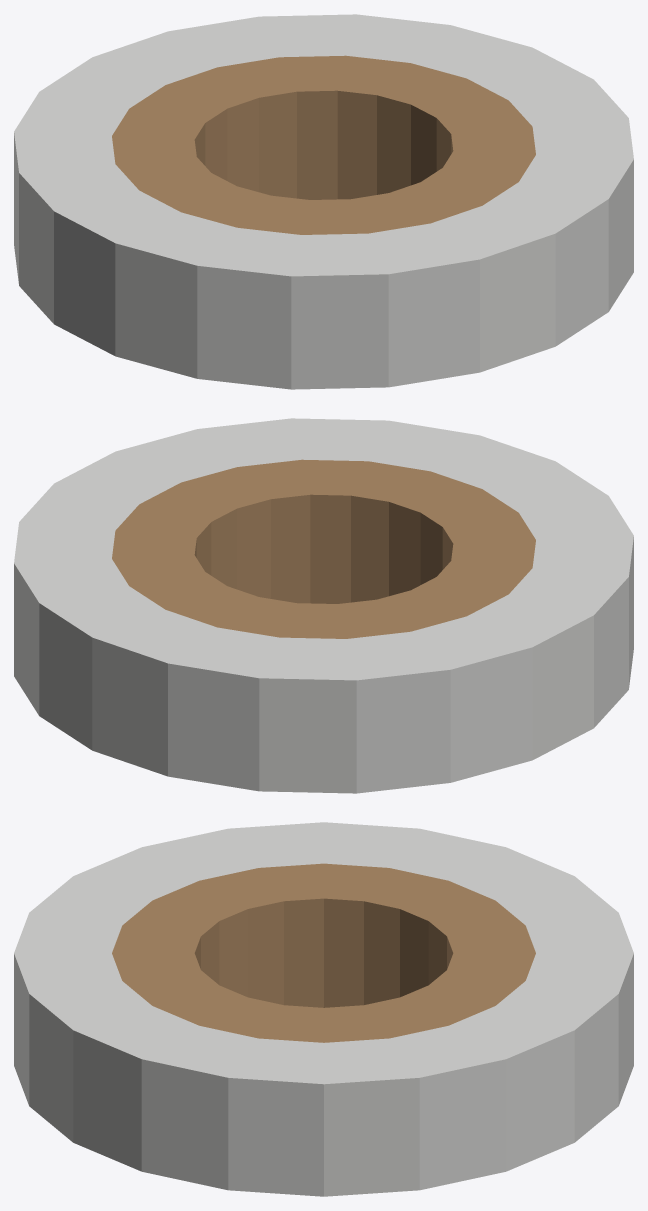
The model's file is seal-tape-ptfe.glb.
3 renders of one model, top to bottom at view 1: azimuth 30°, elevation 25°; view 2: azimuth 150°, elevation 25°; view 3: azimuth 270°, elevation 25°, orthographic.
Parts seen in each view (by area): view 1: body; view 2: body; view 3: body.
Boxes of the visible parts, x1,y1,x2,y2 form: body: (14, 14, 633, 389); body: (14, 418, 633, 793); body: (14, 822, 633, 1196).
Size of what is drawn, in the model's own units: 0.0599 by 0.012 by 0.0599.
